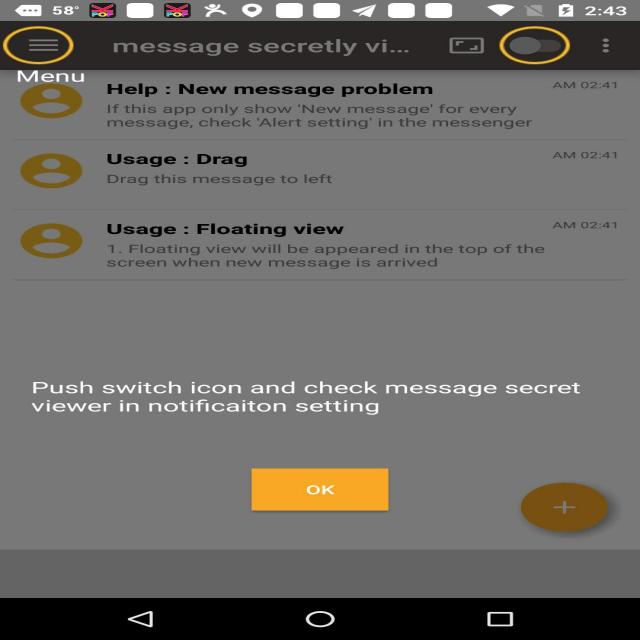button: (256, 468, 393, 513), (523, 489, 611, 532), (503, 28, 568, 58), (16, 33, 66, 54)
icon: (21, 224, 85, 258), (27, 152, 79, 187), (27, 86, 79, 116), (22, 35, 56, 58), (448, 36, 485, 54), (554, 498, 581, 518), (598, 38, 620, 54)
text: (30, 372, 584, 416), (100, 242, 560, 272), (103, 104, 544, 130), (109, 33, 418, 63), (100, 82, 450, 97), (101, 219, 350, 235), (98, 172, 352, 187), (94, 150, 274, 167), (535, 215, 637, 231), (550, 140, 631, 160), (542, 75, 623, 89), (302, 482, 347, 496)
